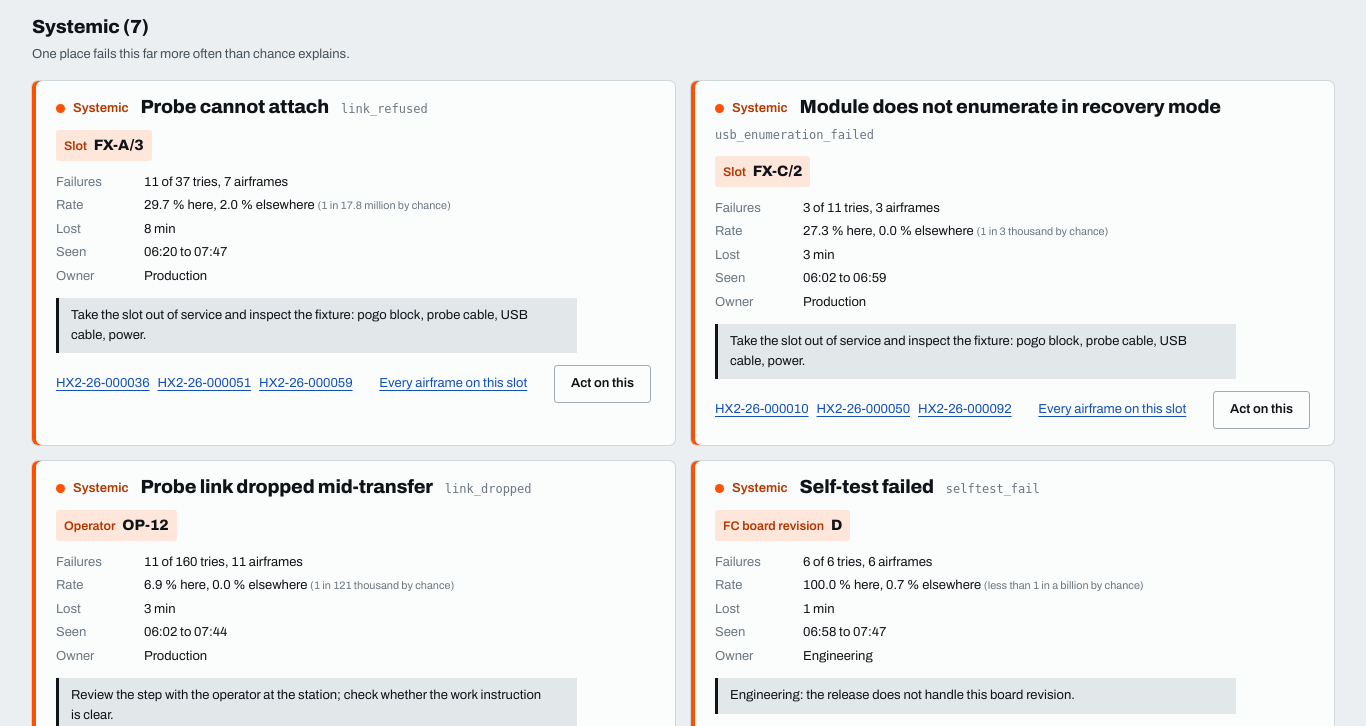
Scenario: issues › lets the lead mark an issue fixed from a given time
(page scrolled)
Click the button "Act on this" in the row of "HX2-26-000059".
click(602, 384)  # box [554,365,651,403]
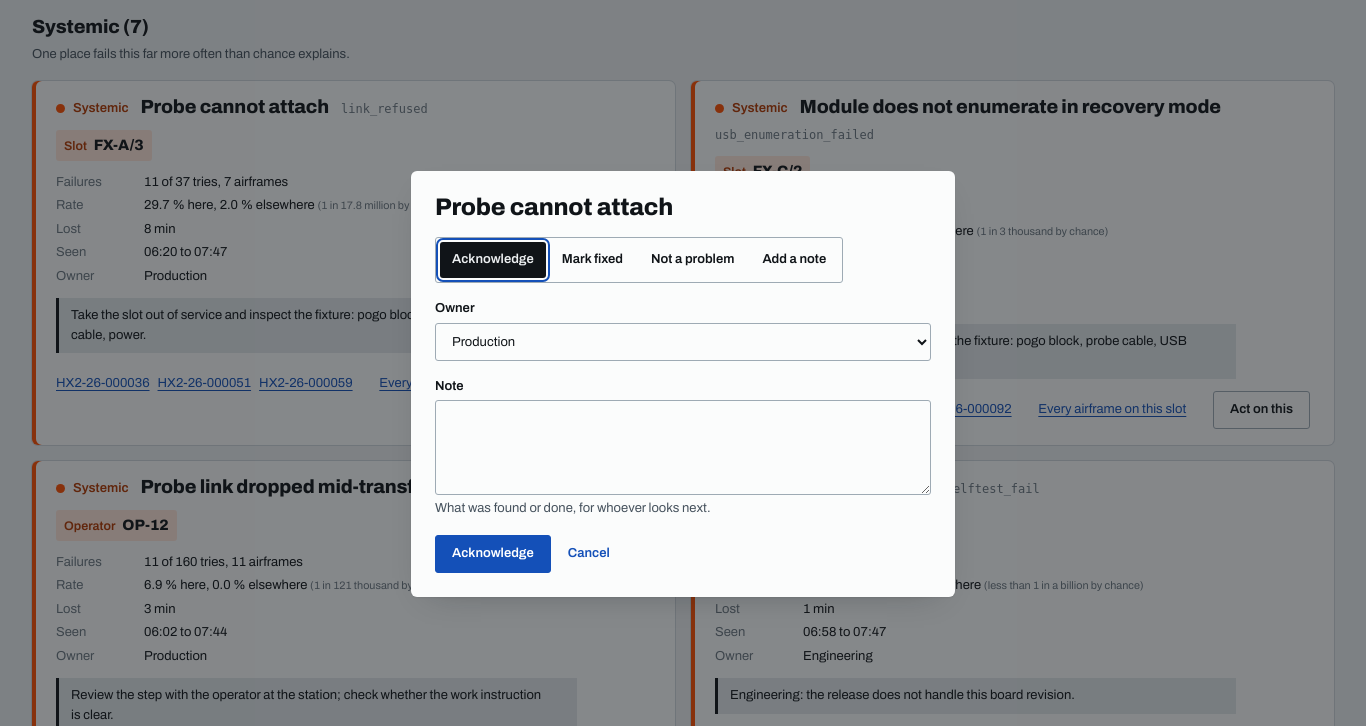
Click the radio button labelled "Mark fixed".
click(592, 260)  # box [562,252,623,266]
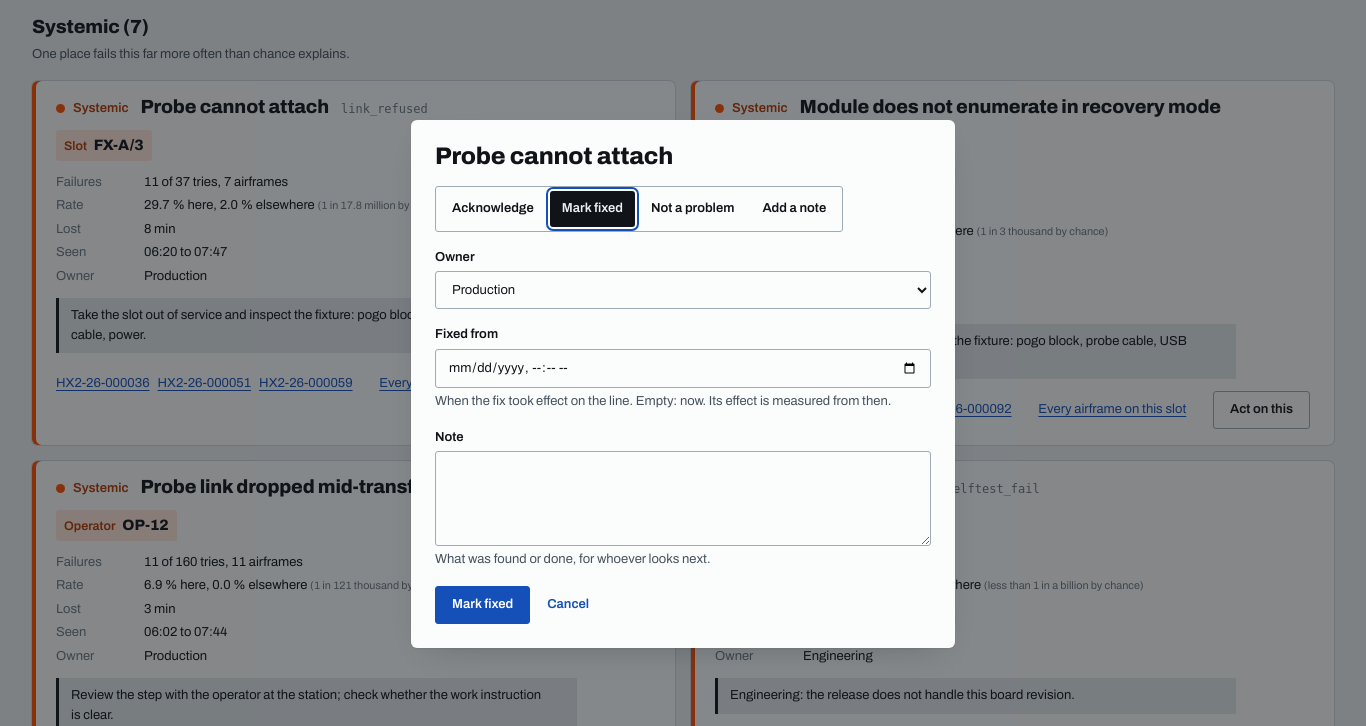
Type "2026-10-27T07:40" into the field labelled "Fixed from".
click(683, 369); type("2026-10-27T07:40")  # box [435,349,931,388]
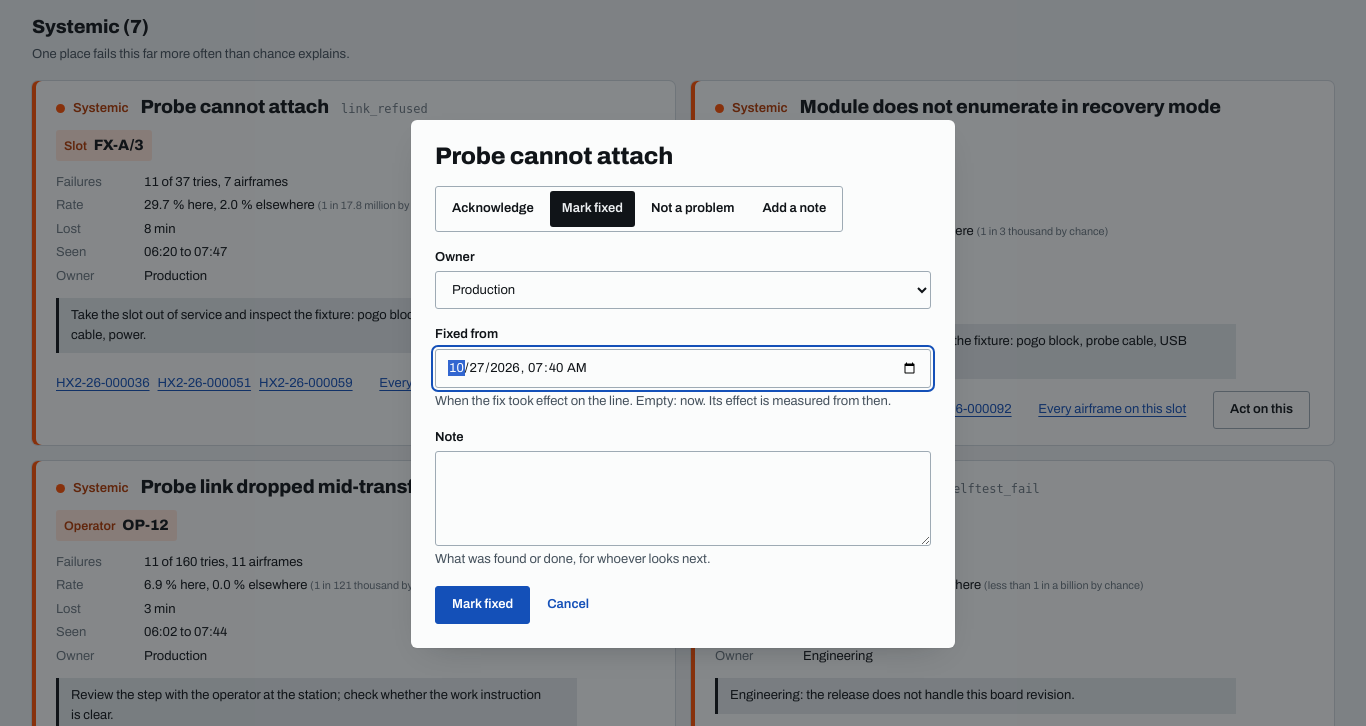
Click the button "Mark fixed".
click(483, 605)  # box [435,586,530,624]
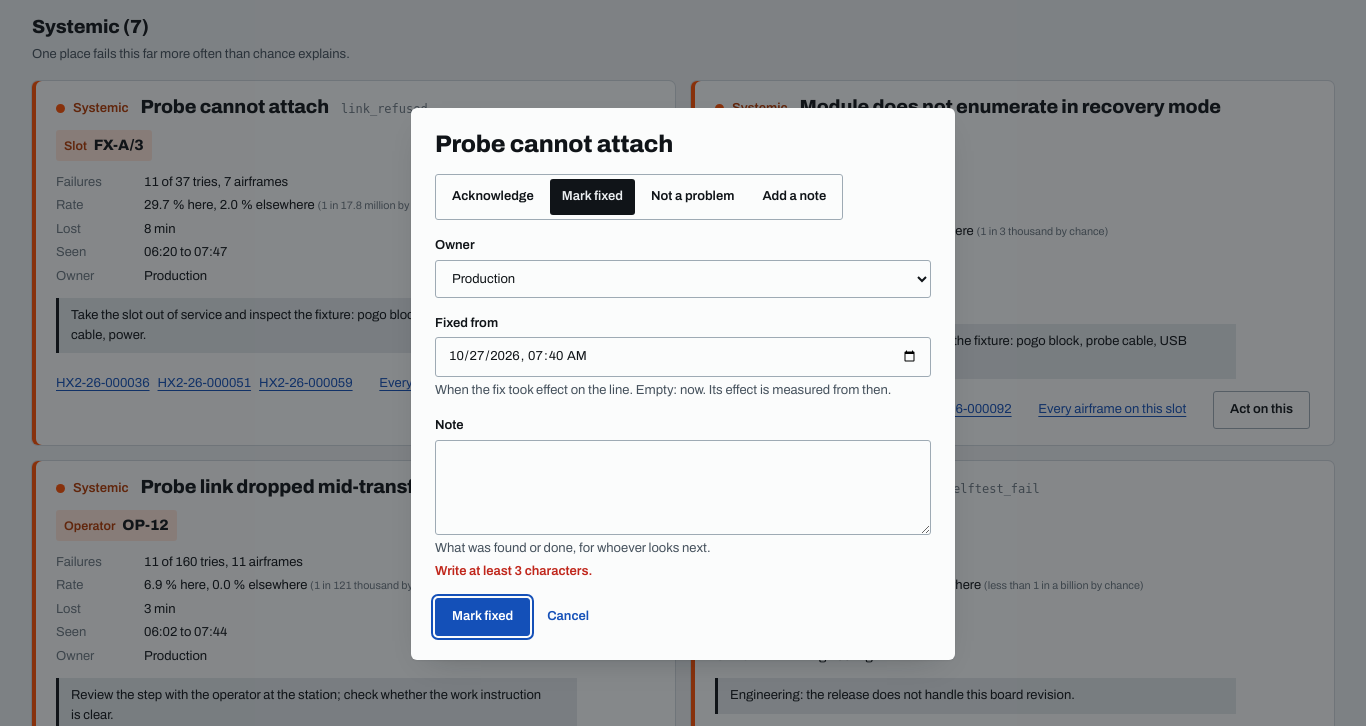
Check: the text "Write at least 3 characters." is shown, box [435,564,592,578]
Type "pogo block replaced" into the text box labelled "Note".
click(683, 487); type("pogo block replaced")  # box [435,440,931,535]
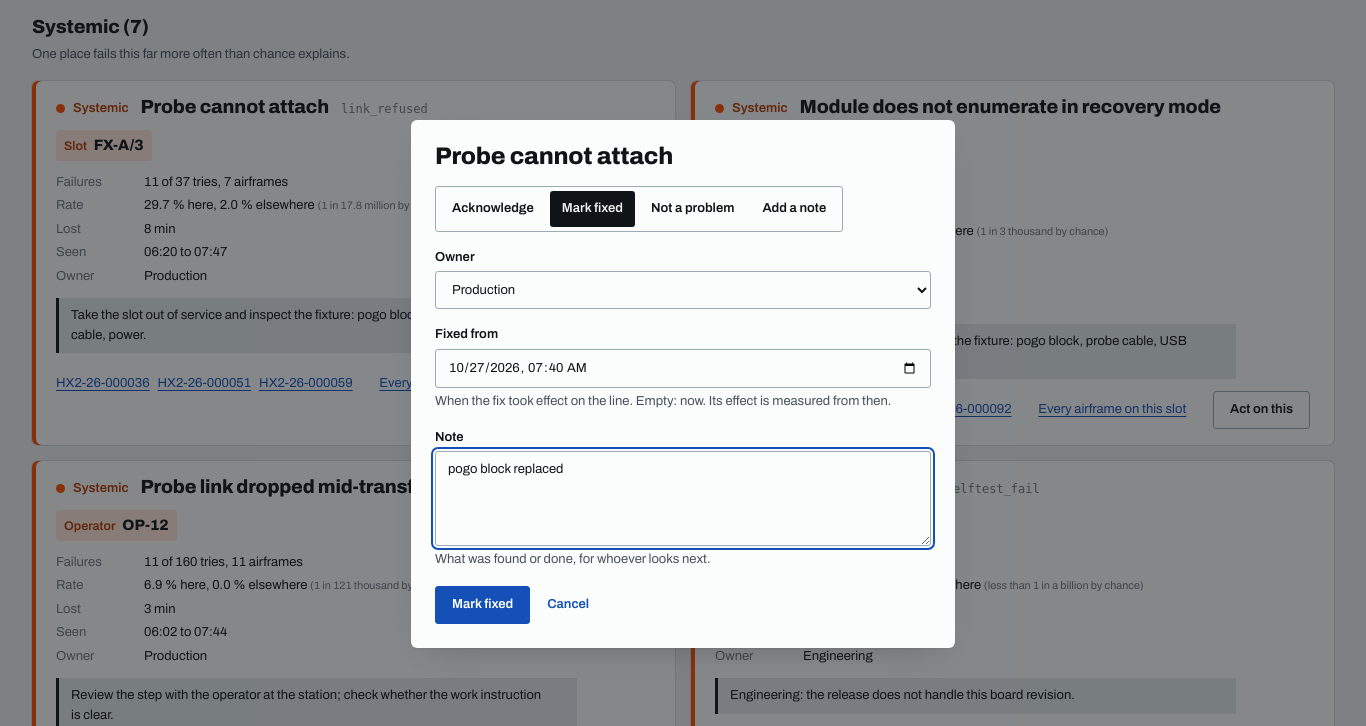
Click the button "Mark fixed".
click(483, 605)  # box [435,586,530,624]
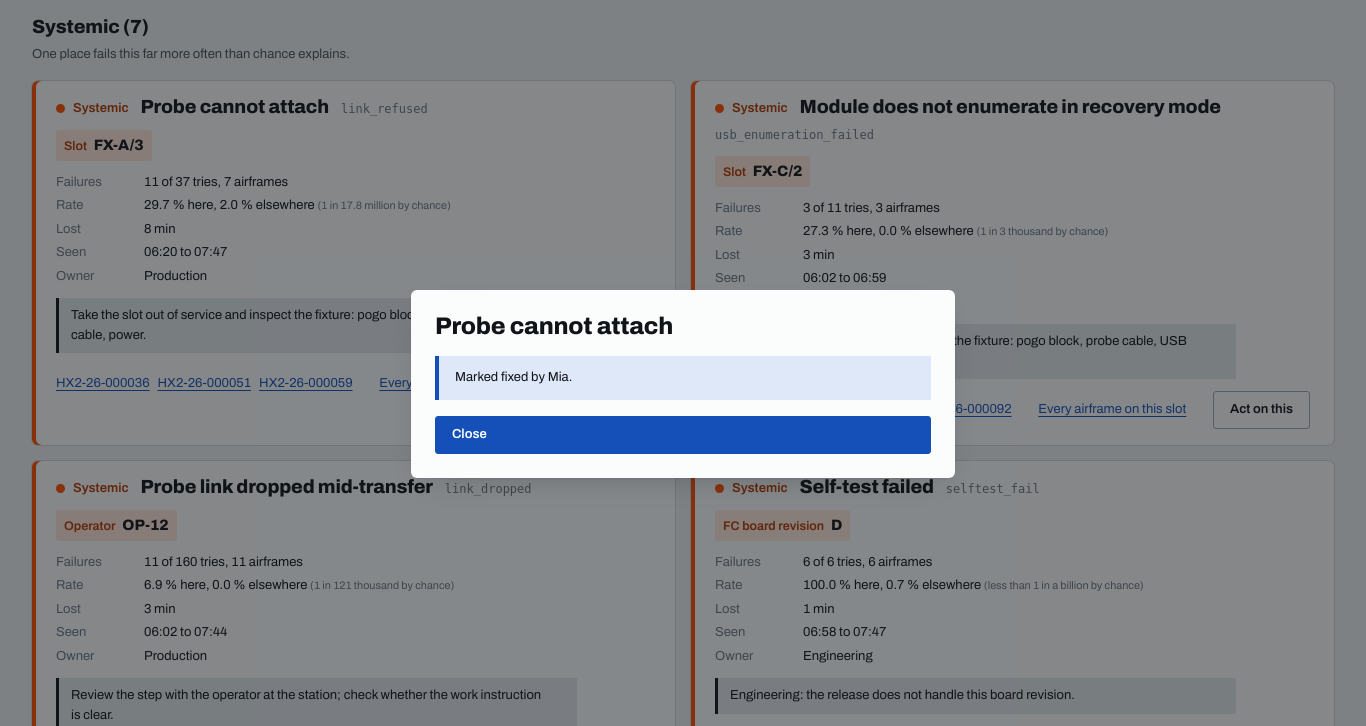
Check: the text "Marked fixed by Mia." is shown, box [435,356,931,400]
